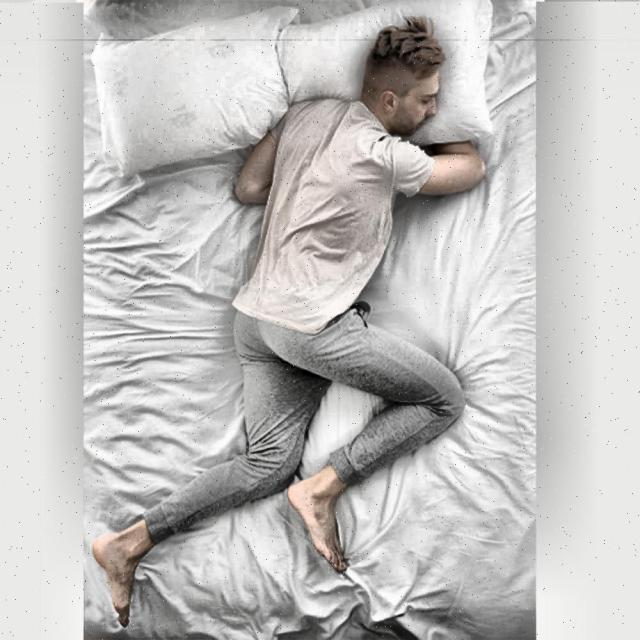Not_Supine: (92, 18, 485, 625)
